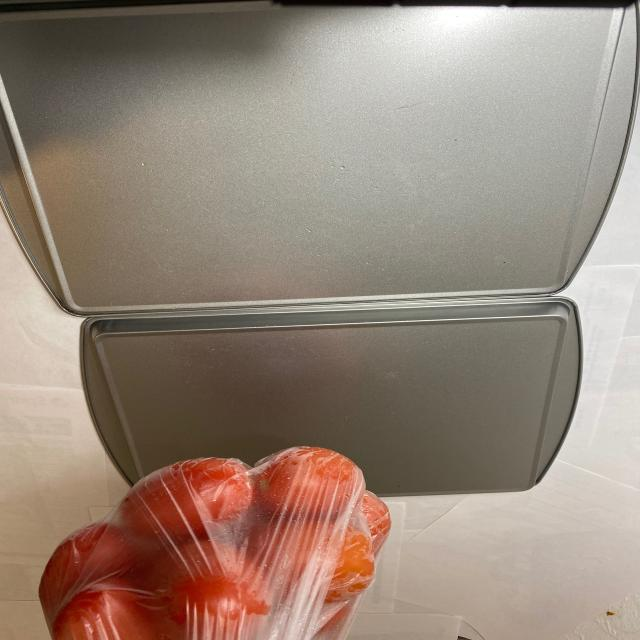tomato: (36, 443, 392, 639)
